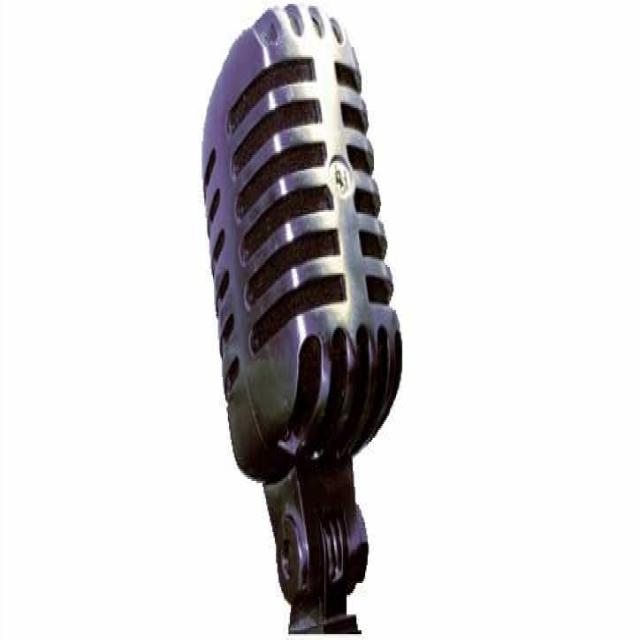microphone: (200, 3, 398, 640)
